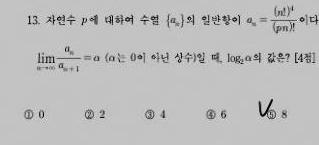choice: (259, 102, 277, 120)
not-choice: (22, 108, 34, 120), (143, 108, 155, 120), (205, 108, 217, 120), (83, 108, 94, 120)
